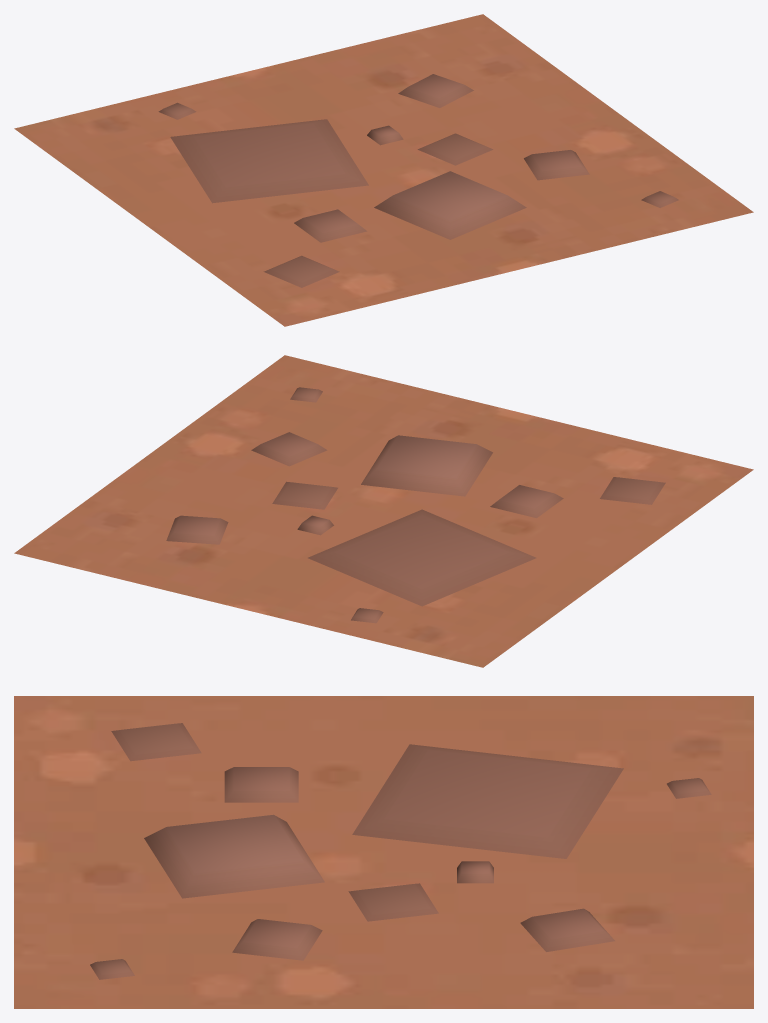
The model's file is template-floor-detail.glb.
The picture shows the model from 3 angles, top to bottom: view 1: azimuth 30°, elevation 25°; view 2: azimuth 150°, elevation 25°; view 3: azimuth 270°, elevation 25°; orthographic projection. The views are drawn at different scales.
Visible parts, largest first — view 1: template-floor-detail; view 2: template-floor-detail; view 3: template-floor-detail.
Part boxes in pixels (bbox=[...]): template-floor-detail: bbox=[14, 14, 753, 326]; template-floor-detail: bbox=[14, 355, 753, 667]; template-floor-detail: bbox=[14, 696, 753, 1008].
Bounding box in the file's own units: 4 × 0.1001 × 4.
1 material, 1 textured.
